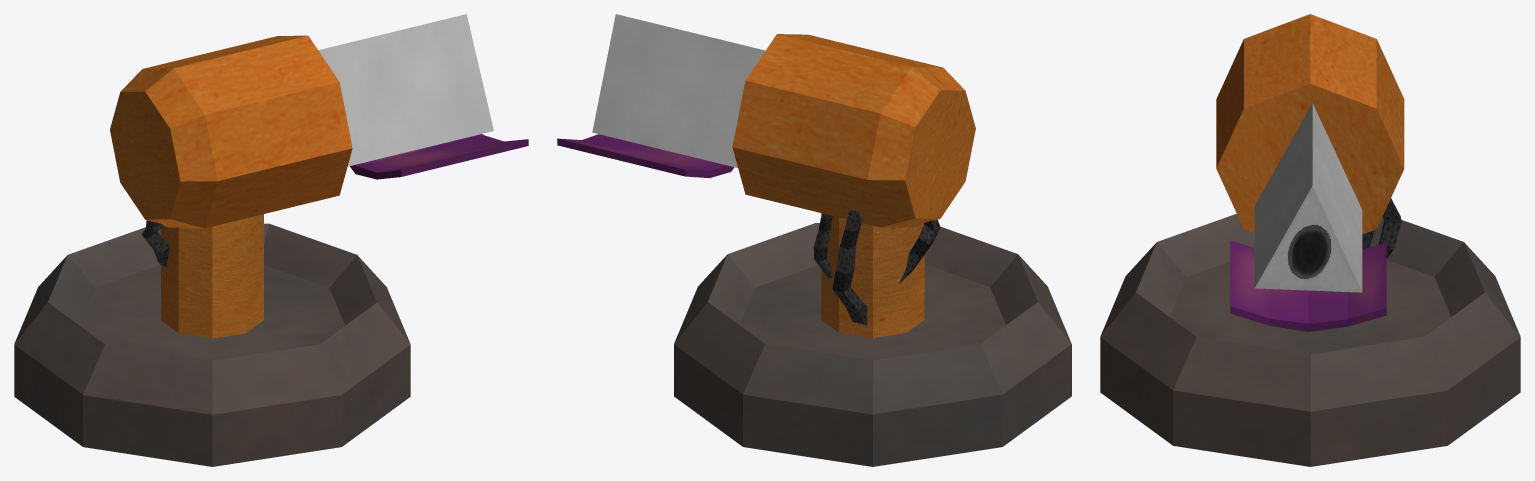
File: TorreDanoArea1.fbx
3 views of the same model, side by side, from view 1: azimuth 30°, elevation 25°; view 2: azimuth 150°, elevation 25°; view 3: azimuth 270°, elevation 25° (orthographic). The views are drawn at different scales.
Parts seen in each view (by area): view 1: Plane; view 2: Plane; view 3: Plane.
Part boxes in pixels (x1=…): Plane: x1=14, y1=14, x2=528, y2=466; Plane: x1=557, y1=14, x2=1071, y2=466; Plane: x1=1100, y1=14, x2=1520, y2=466.
Size of the model in its own units: 428 by 299 by 332.
